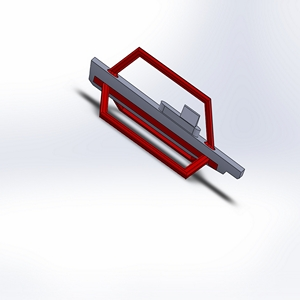submarine: (76, 44, 261, 206)
